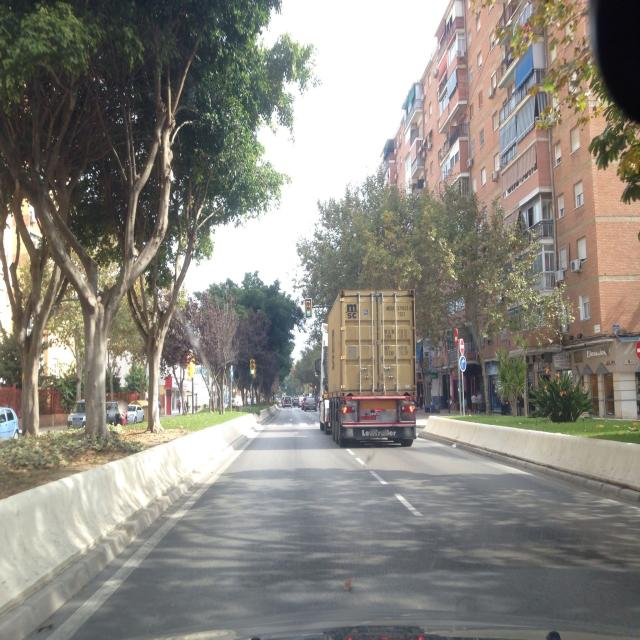car: (0, 406, 21, 450), (66, 400, 87, 428), (105, 401, 125, 426), (125, 404, 145, 424), (302, 396, 316, 412), (281, 396, 293, 408)
